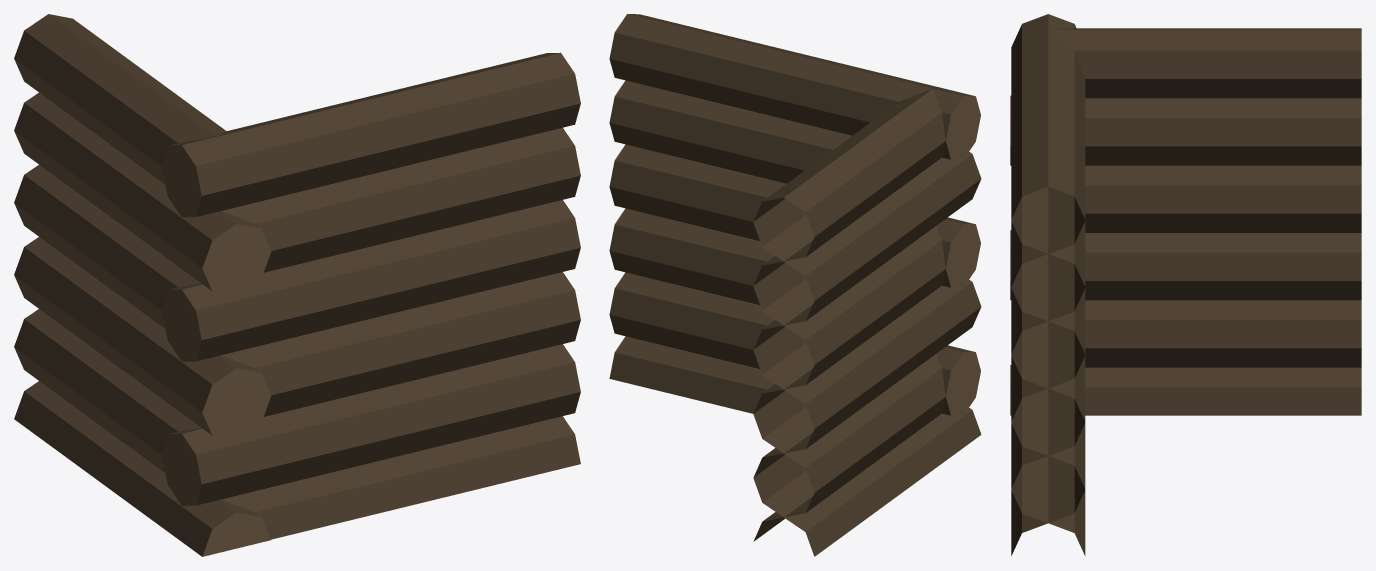
The model's file is Cabin_Corner_wall.fbx.
3 views of the same model, side by side, from view 1: azimuth 30°, elevation 25°; view 2: azimuth 150°, elevation 25°; view 3: azimuth 270°, elevation 25° (orthographic). The views are drawn at different scales.
Visible parts, largest first — view 1: Cabin_Corner_Wall; view 2: Cabin_Corner_Wall; view 3: Cabin_Corner_Wall.
Part boxes in pixels (box(x1,y1,x2,y2)): Cabin_Corner_Wall: box(14, 14, 580, 556); Cabin_Corner_Wall: box(609, 14, 981, 556); Cabin_Corner_Wall: box(1010, 14, 1361, 555).
Size of the model in its own units: 1.1 by 1.1 by 0.9464.
